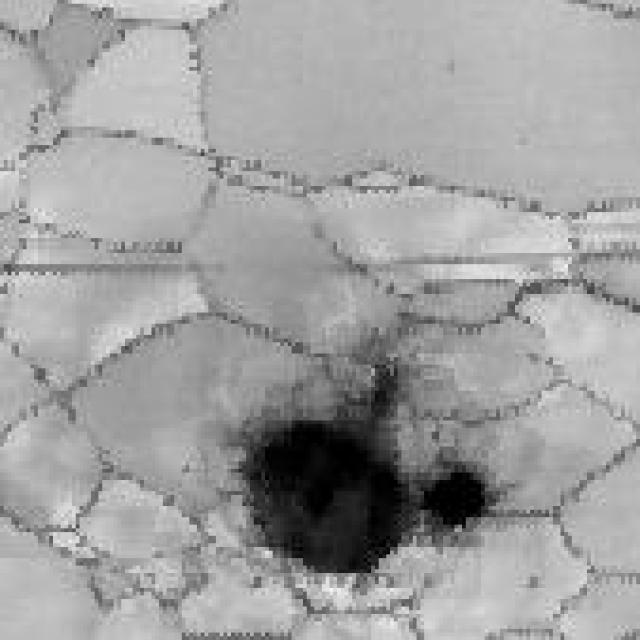good_void: (237, 324, 423, 580), (418, 462, 513, 551)
